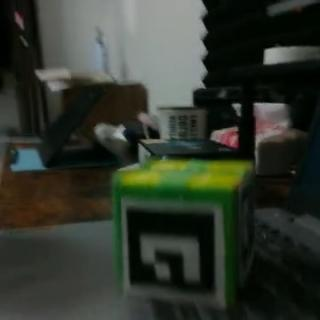armor: (120, 198, 227, 306)
robot: (114, 154, 259, 306)
